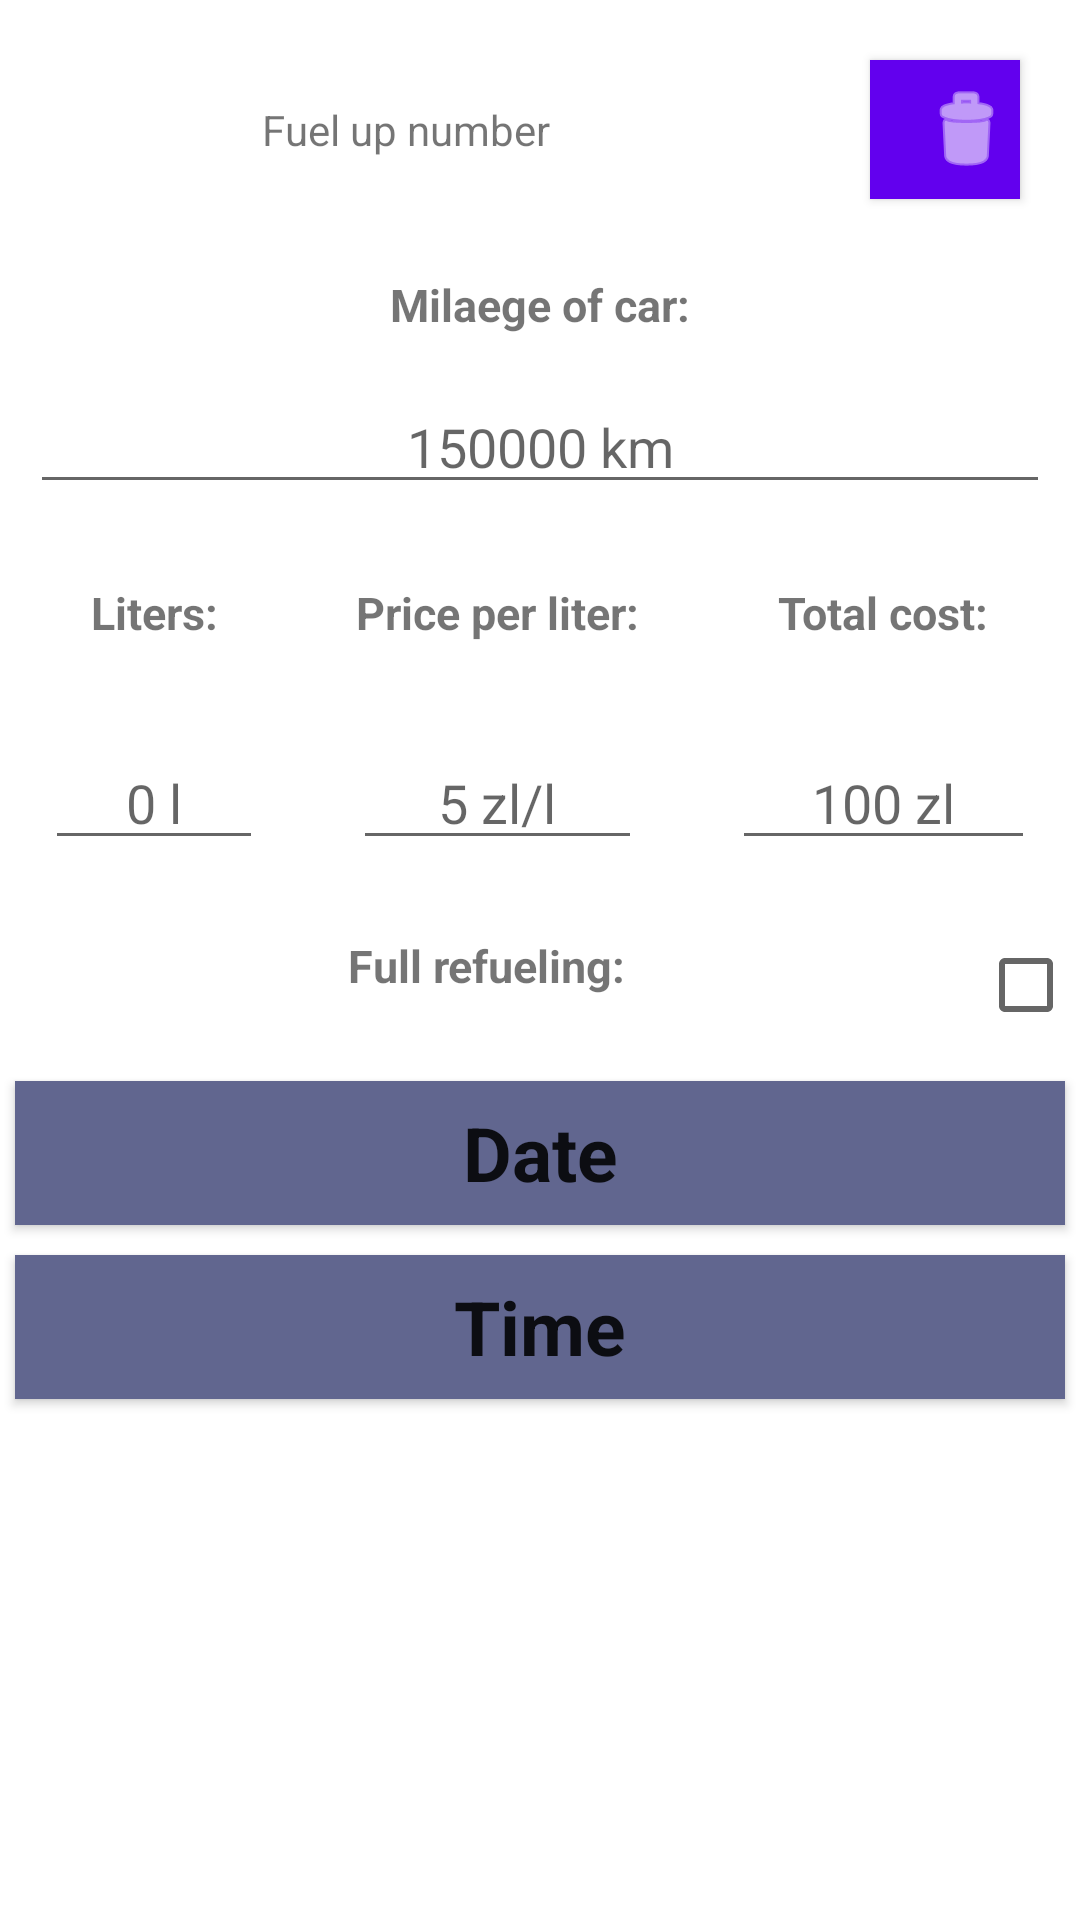

Locate icon controls on the screen. Image size 1080w x 1920h, boxes as [x1=x1, y1=y1, x2=x2, y2=y2].
delete: [x1=870, y1=60, x2=1020, y2=199]
